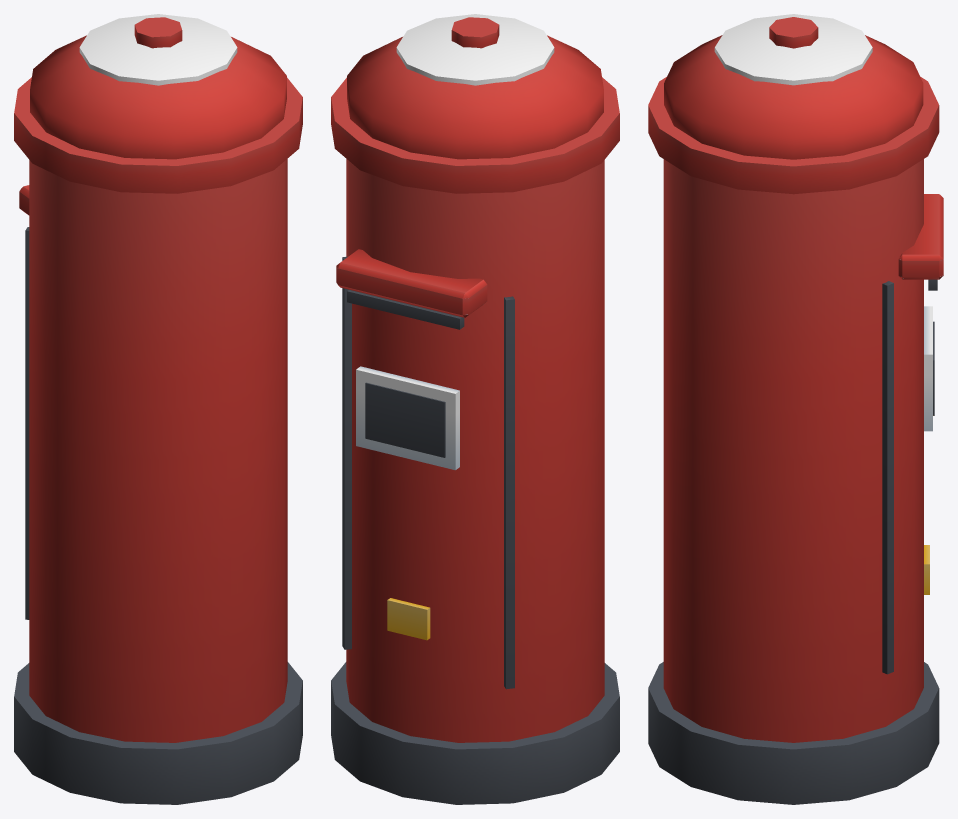
The model's file is ck_post_box.fbx.
3 views of the same model, side by side, from view 1: azimuth 30°, elevation 25°; view 2: azimuth 150°, elevation 25°; view 3: azimuth 270°, elevation 25° (orthographic).
Visible parts, largest first — view 1: ck_post_box; view 2: ck_post_box; view 3: ck_post_box.
Part boxes in pixels (x1,y1,x2,y2): ck_post_box: (14,14,302,804); ck_post_box: (331,14,619,804); ck_post_box: (648,14,943,804).
Size of the model in its own units: 144 by 390 by 146.
